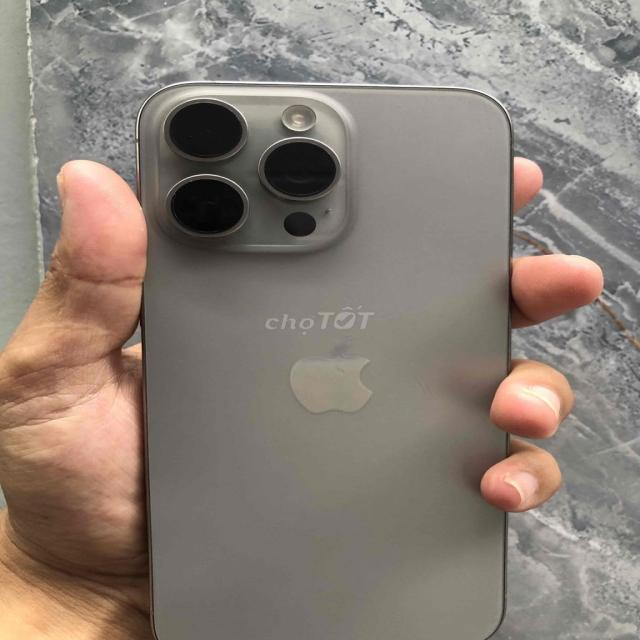gen_15: (115, 73, 535, 640)
